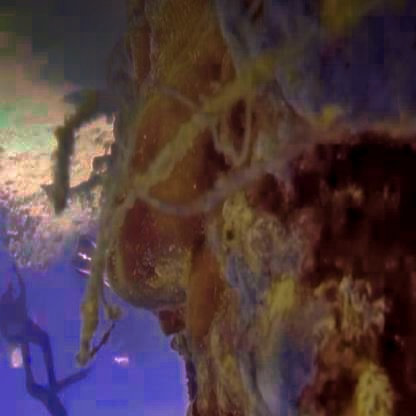net: (47, 76, 194, 270)
